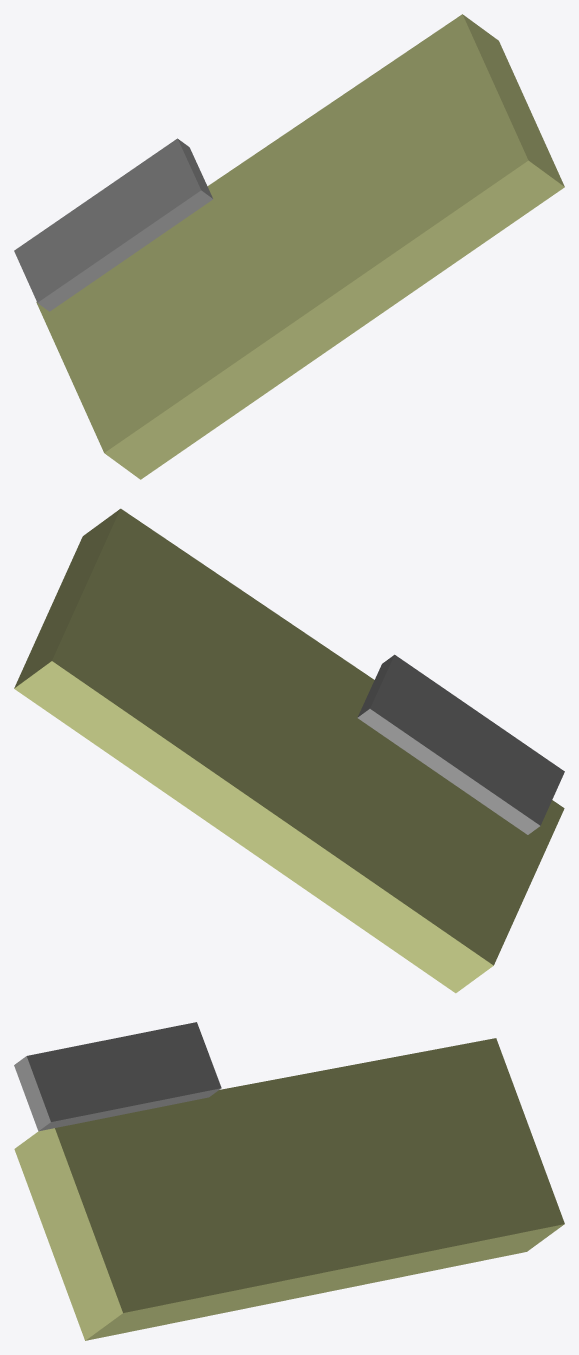
3 views of the same model, one above another, from view 1: azimuth 30°, elevation 25°; view 2: azimuth 150°, elevation 25°; view 3: azimuth 330°, elevation 25° (orthographic). The views are drawn at different scales.
Parts seen in each view (by area): view 1: 0_1_0_2_0_1; view 2: 0_1_0_2_0_1; view 3: 0_1_0_2_0_1.
Boxes of the visible parts, left/top/right/bottom form: 0_1_0_2_0_1: left=14, top=14, right=564, bottom=479; 0_1_0_2_0_1: left=14, top=508, right=564, bottom=993; 0_1_0_2_0_1: left=14, top=1022, right=564, bottom=1340.
Bounding box in the file's own units: 73.48 × 47.87 × 9.
